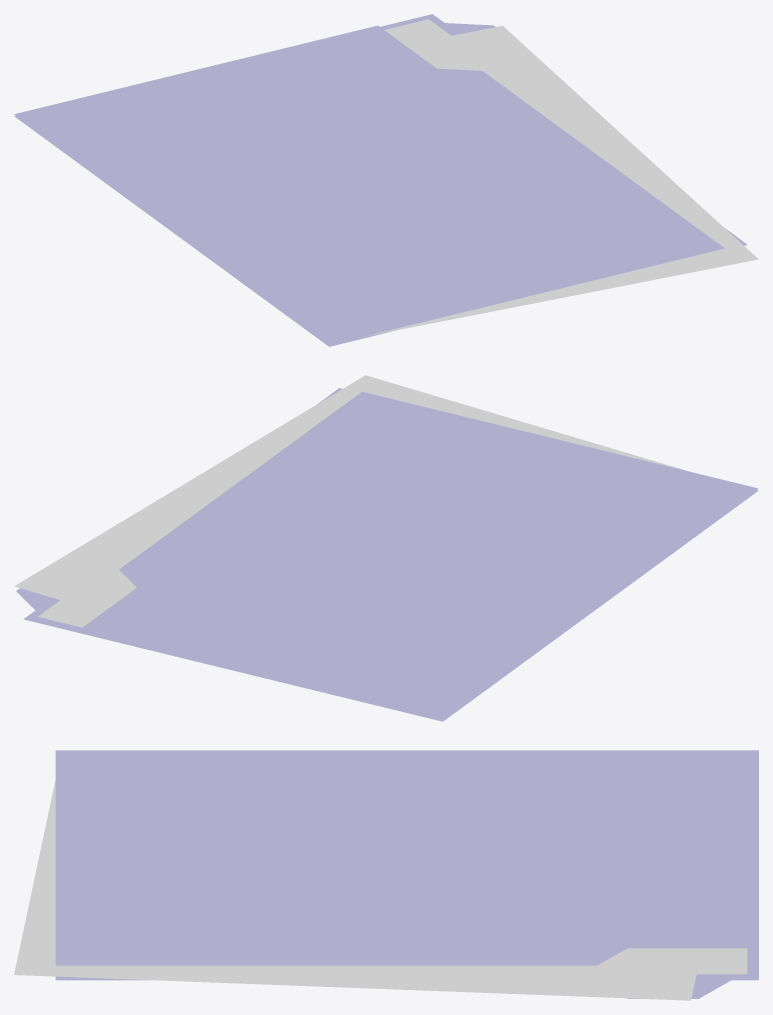
File: FileFolder1.fbx
3 views of the same model, one above another, from view 1: azimuth 30°, elevation 25°; view 2: azimuth 150°, elevation 25°; view 3: azimuth 270°, elevation 25° (orthographic). The views are drawn at different scales.
Parts seen in each view (by area): view 1: FolderTop, Paper.001, Paper, Folderbottom; view 2: FolderTop, Paper.001, Paper, Folderbottom; view 3: FolderTop, Paper.001, Paper, Folderbottom.
Boxes of the visible parts, x1,y1,x2,y2 form: FolderTop: (14, 25, 724, 344); Paper.001: (361, 25, 758, 337); Paper: (384, 19, 732, 244); Folderbottom: (14, 14, 747, 346); FolderTop: (78, 391, 758, 719); Paper.001: (14, 375, 686, 612); Paper: (38, 393, 355, 627); Folderbottom: (16, 388, 758, 721); FolderTop: (55, 750, 758, 965); Paper.001: (14, 780, 701, 1000); Paper: (67, 948, 747, 974); Folderbottom: (55, 948, 758, 998).
Size of the model in its own units: 504 by 2 by 636.
